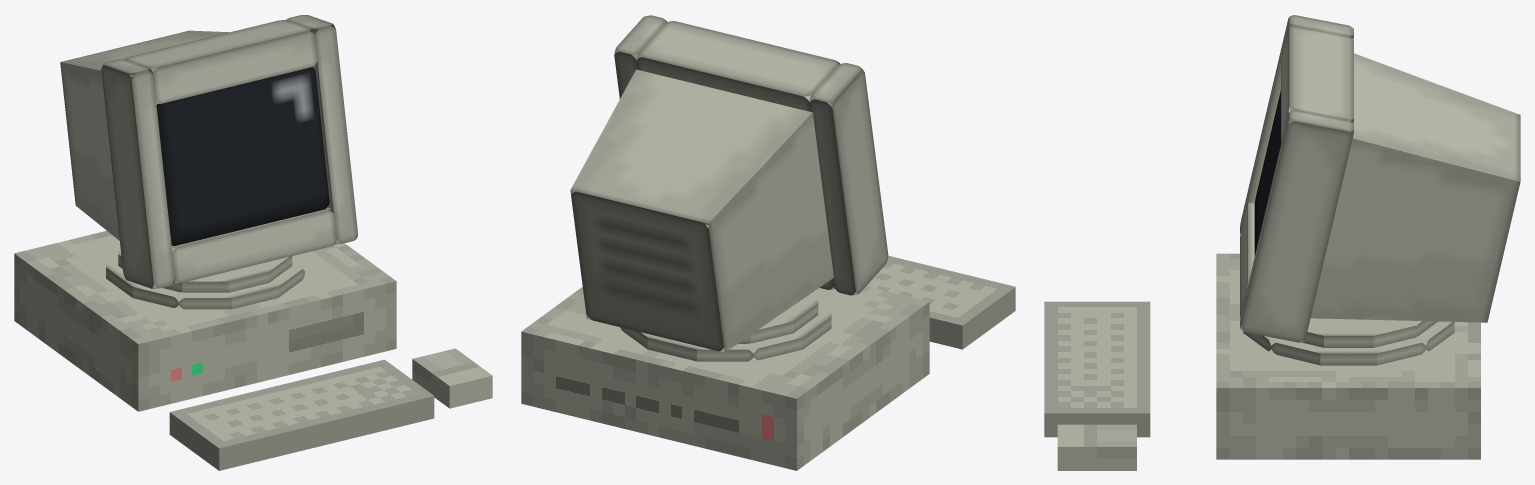
File: pc_old.fbx
3 views of the same model, side by side, from view 1: azimuth 30°, elevation 25°; view 2: azimuth 150°, elevation 25°; view 3: azimuth 270°, elevation 25° (orthographic). The views are drawn at different scales.
Parts seen in each view (by area): view 1: cuboid_7, cuboid_1, cuboid_8, cuboid_3, cuboid_4, cuboid, cuboid_5, cuboid_2, cylinder, cuboid_9, cylinder_1; view 2: cuboid, cuboid_7, cuboid_3, cuboid_4, cuboid_8, cylinder, cuboid_2, cylinder_1; view 3: cuboid, cuboid_7, cuboid_2, cuboid_8, cuboid_4, cuboid_9, cylinder, cylinder_1, cuboid_3, cuboid_1, cuboid_5.
Boxes of the visible parts, x1,y1,x2,y2 form: cuboid_7: [14, 230, 396, 411]; cuboid_1: [156, 67, 329, 252]; cuboid_8: [169, 359, 434, 470]; cuboid_3: [101, 59, 175, 288]; cuboid_4: [125, 20, 317, 104]; cuboid: [60, 30, 228, 251]; cuboid_5: [171, 207, 336, 283]; cuboid_2: [286, 15, 357, 244]; cylinder: [106, 238, 304, 309]; cuboid_9: [412, 348, 492, 408]; cylinder_1: [118, 240, 292, 292]; cuboid: [570, 69, 833, 352]; cuboid_7: [521, 286, 929, 470]; cuboid_3: [809, 63, 888, 295]; cuboid_4: [637, 21, 839, 111]; cuboid_8: [866, 255, 1015, 349]; cylinder: [619, 288, 831, 361]; cuboid_2: [614, 15, 666, 98]; cylinder_1: [738, 289, 818, 343]; cuboid: [1310, 53, 1520, 322]; cuboid_7: [1216, 253, 1480, 459]; cuboid_2: [1240, 110, 1353, 342]; cuboid_8: [1044, 301, 1150, 437]; cuboid_4: [1281, 26, 1353, 141]; cuboid_9: [1057, 424, 1136, 470]; cylinder: [1243, 321, 1454, 365]; cylinder_1: [1302, 318, 1437, 347]; cuboid_3: [1240, 15, 1353, 233]; cuboid_1: [1254, 90, 1293, 255]; cuboid_5: [1240, 202, 1254, 317].
Size of the model in its own units: 81.25 by 84.86 by 112.
Materials: 3 (3 with a texture image).
